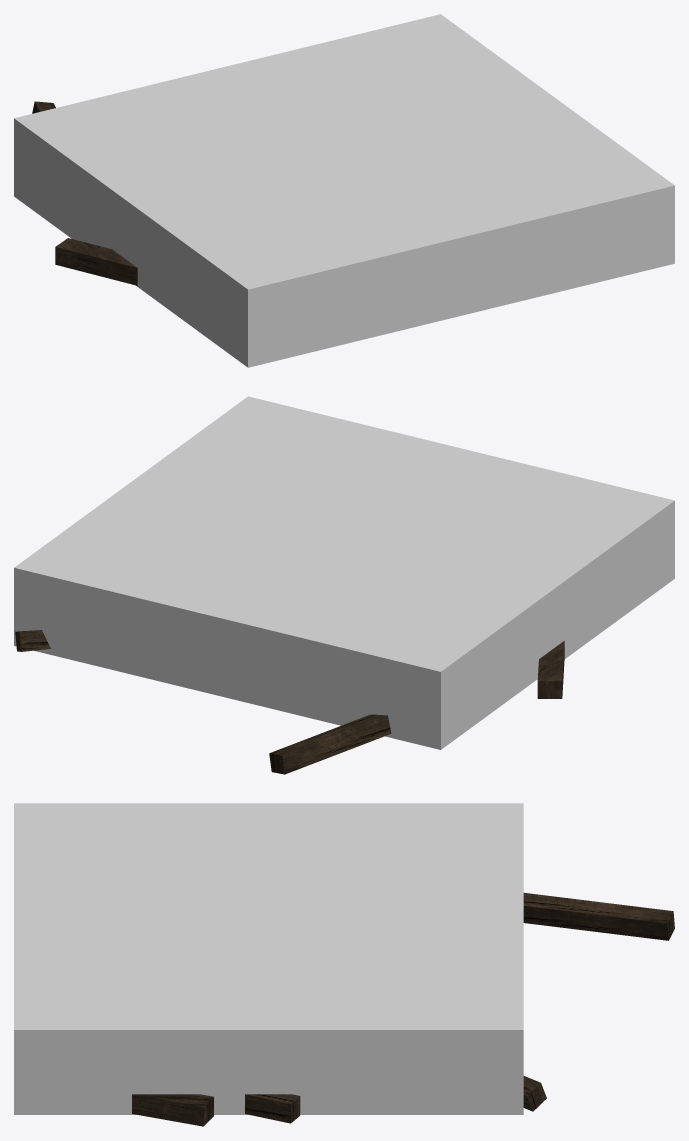
The model's file is weapon_rack_wreck_opened.glb.
The picture shows the model from 3 angles, top to bottom: view 1: azimuth 30°, elevation 25°; view 2: azimuth 150°, elevation 25°; view 3: azimuth 270°, elevation 25°; orthographic projection. The views are drawn at different scales.
Visible parts, largest first — view 1: col_click, weapon_rack_wreck_opened; view 2: col_click, weapon_rack_wreck_opened; view 3: col_click, weapon_rack_wreck_opened.
Boxes of the visible parts, x1,y1,x2,y2 form: col_click: [14, 14, 674, 367]; weapon_rack_wreck_opened: [32, 101, 137, 285]; col_click: [14, 396, 674, 749]; weapon_rack_wreck_opened: [15, 630, 564, 774]; col_click: [14, 803, 523, 1114]; weapon_rack_wreck_opened: [132, 892, 674, 1126].
Size of the model in its own units: 2.3 by 0.3573 by 2.46.
2 materials, 2 textured.
